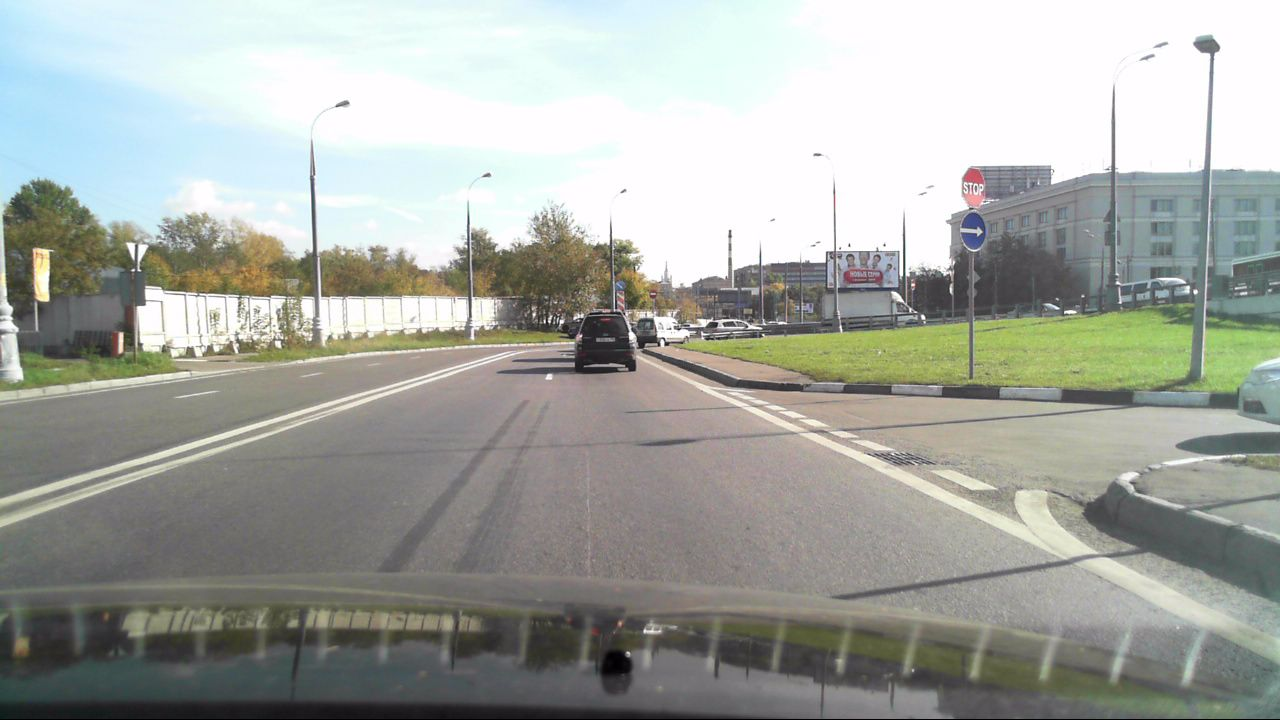Turn Right: (959, 211, 987, 252)
